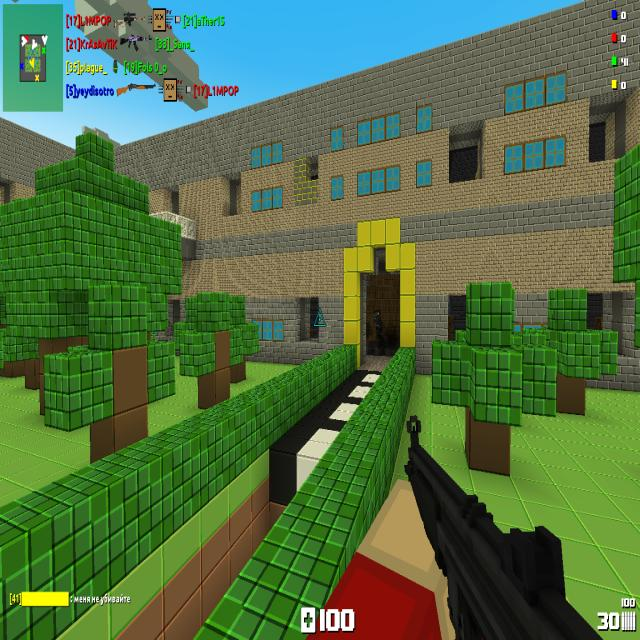enemy: (374, 308, 384, 338)
